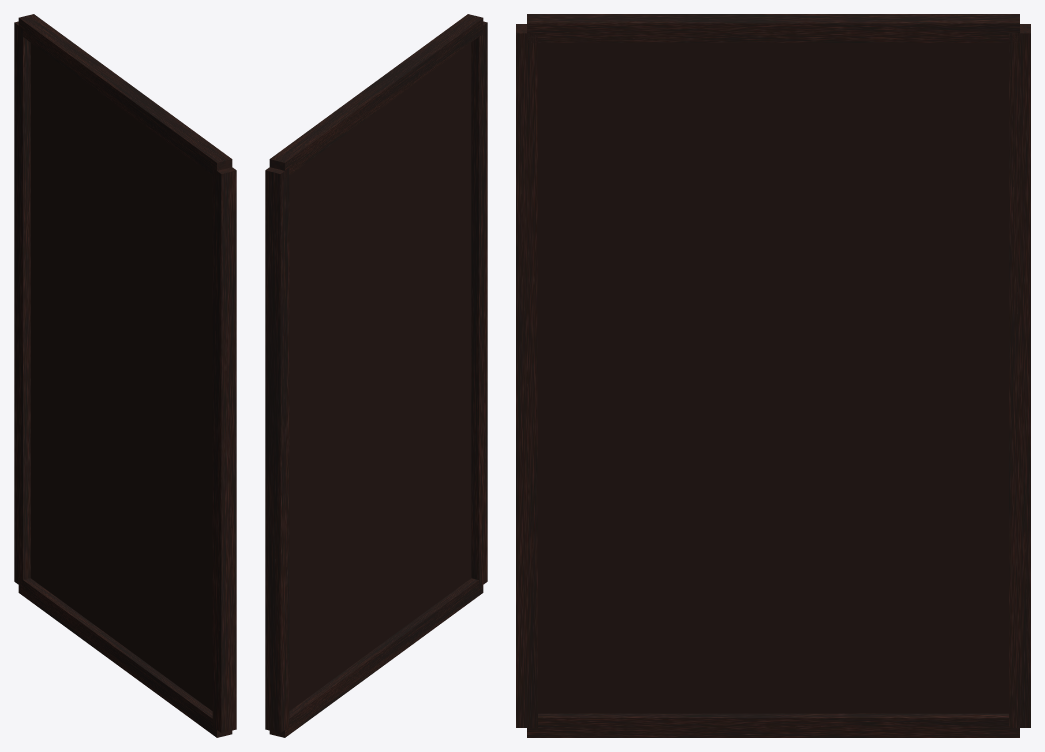
Rendered from spider_game_level_grille.fbx.
3 views of the same model, side by side, from view 1: azimuth 30°, elevation 25°; view 2: azimuth 150°, elevation 25°; view 3: azimuth 270°, elevation 25° (orthographic). The views are drawn at different scales.
Parts seen in each view (by area): view 1: Plane.006; view 2: Plane.006; view 3: Plane.006.
Boxes of the visible parts, <box> form: Plane.006: <box>14,14,236,737</box>; Plane.006: <box>265,14,487,737</box>; Plane.006: <box>516,14,1030,737</box>.
Bounding box in the file's own units: 20 × 720 × 470.
